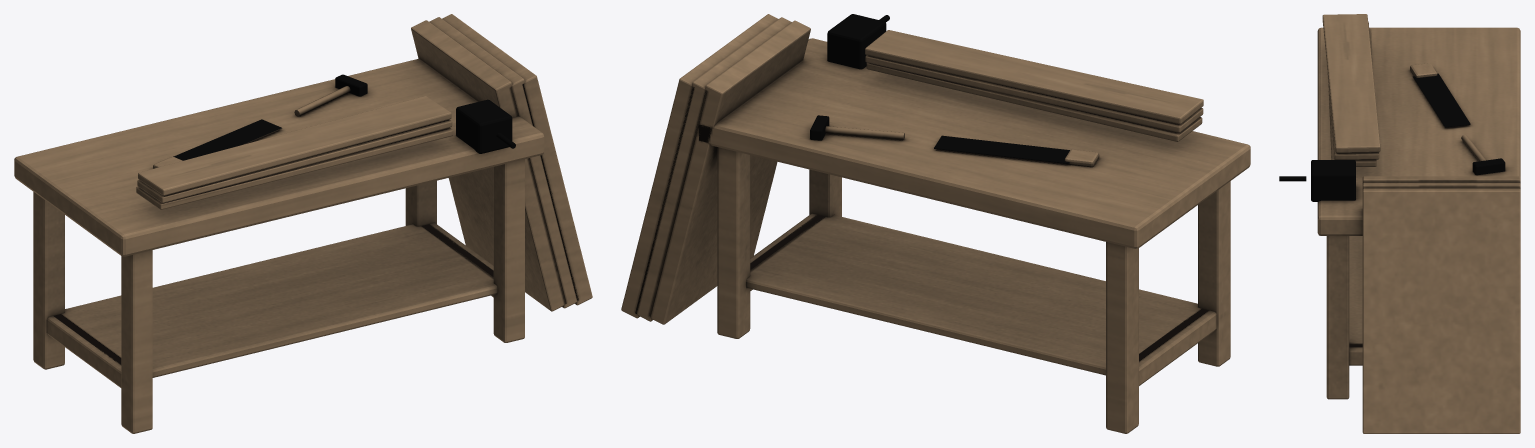
Rendered from cenario_bancada.glb.
The picture shows the model from 3 angles, left to right: view 1: azimuth 30°, elevation 25°; view 2: azimuth 150°, elevation 25°; view 3: azimuth 270°, elevation 25°; orthographic projection. The views are drawn at different scales.
Parts seen in each view (by area): view 1: cenario_bancada_tronco; view 2: cenario_bancada_tronco; view 3: cenario_bancada_tronco.
Boxes of the visible parts, box(x1,y1,x2,y2) form: cenario_bancada_tronco: box(14, 14, 592, 433); cenario_bancada_tronco: box(621, 14, 1250, 433); cenario_bancada_tronco: box(1279, 14, 1520, 433).
Bounding box in the file's own units: 2.34 × 1.09 × 1.07.
Materials: 1 (1 with a texture image).
